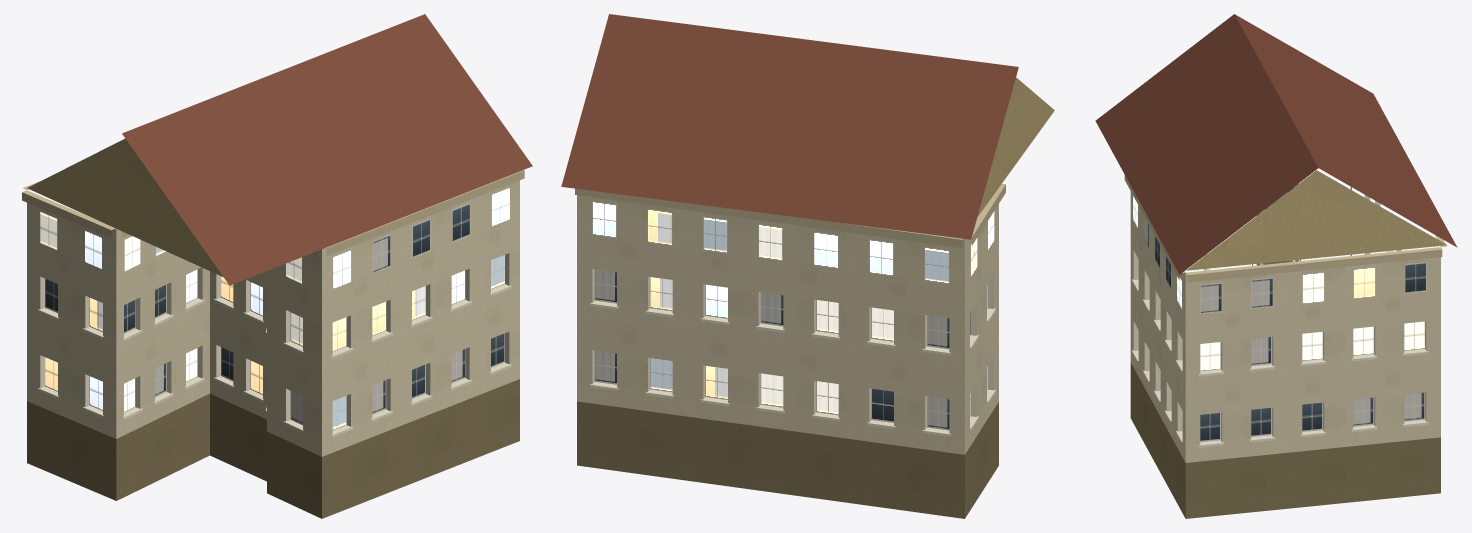
Rendered from ortsmuseum_wiedikon.glb.
The picture shows the model from 3 angles, left to right: view 1: azimuth 30°, elevation 25°; view 2: azimuth 150°, elevation 25°; view 3: azimuth 270°, elevation 25°; orthographic projection. The views are drawn at different scales.
Parts seen in each view (by area): view 1: ortsmuseum_wiedikon; view 2: ortsmuseum_wiedikon; view 3: ortsmuseum_wiedikon.
Boxes of the visible parts, bbox=[...] form: ortsmuseum_wiedikon: bbox=[22, 14, 532, 518]; ortsmuseum_wiedikon: bbox=[561, 14, 1054, 518]; ortsmuseum_wiedikon: bbox=[1095, 14, 1457, 518].
Size of the model in its own units: 20.84 by 18.3 by 17.6.
3 materials, 3 textured.
